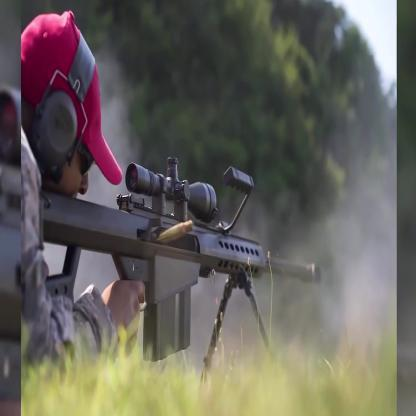Gun: (19, 122, 330, 402)
